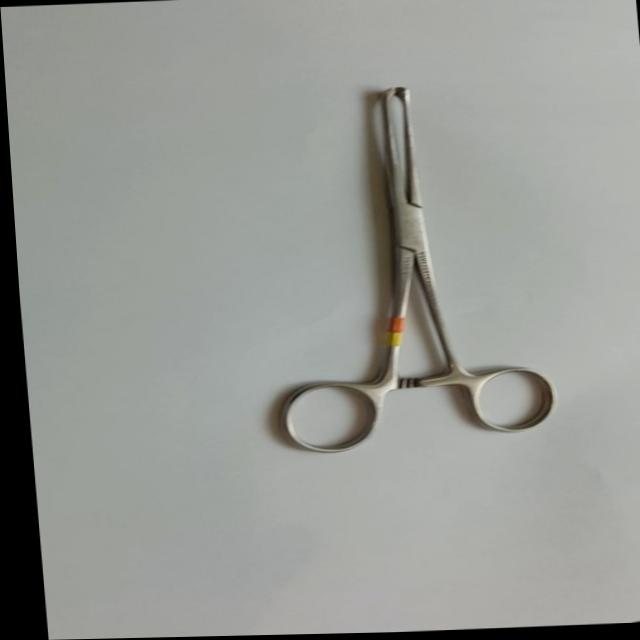AllisForcep: (245, 83, 555, 457)
